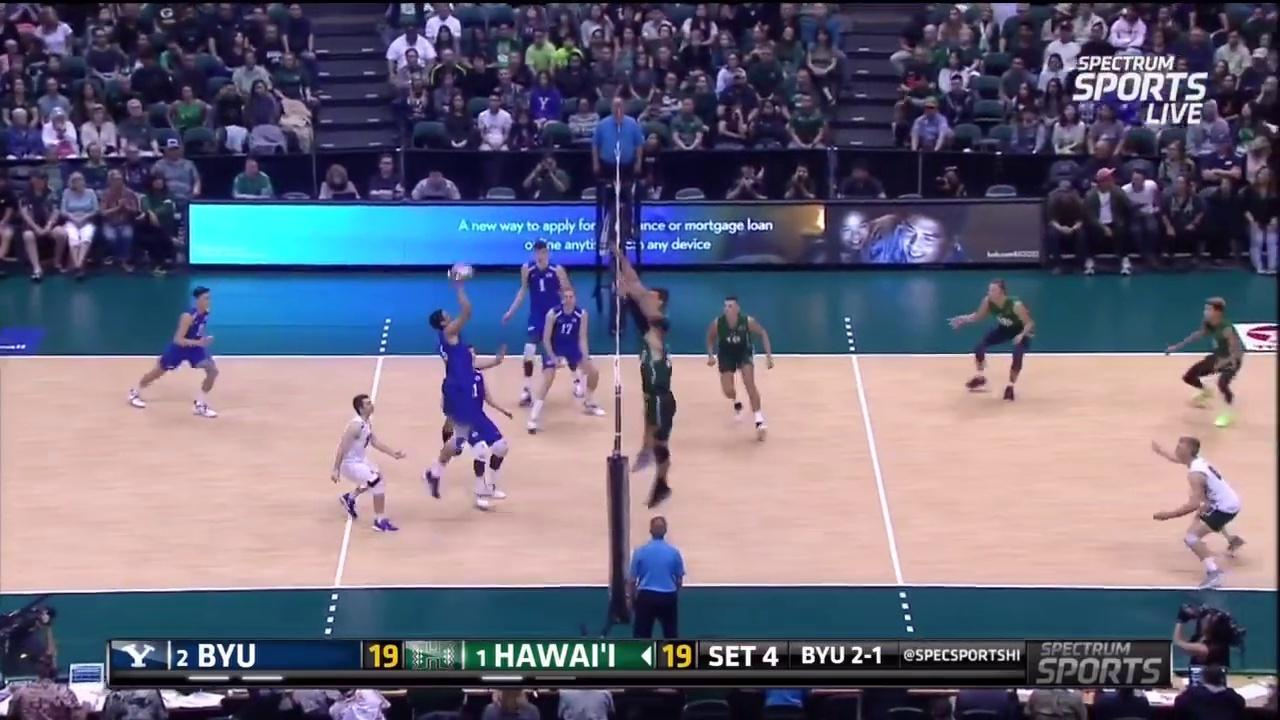player: (416, 278, 481, 489), (1153, 440, 1246, 584), (529, 283, 612, 435), (127, 289, 218, 413), (453, 339, 519, 506), (517, 236, 579, 403), (634, 271, 680, 481), (334, 397, 407, 529), (951, 281, 1034, 396), (1169, 295, 1244, 422), (707, 297, 773, 435), (641, 316, 681, 513)
refree: (627, 521, 684, 639), (594, 96, 644, 226)
